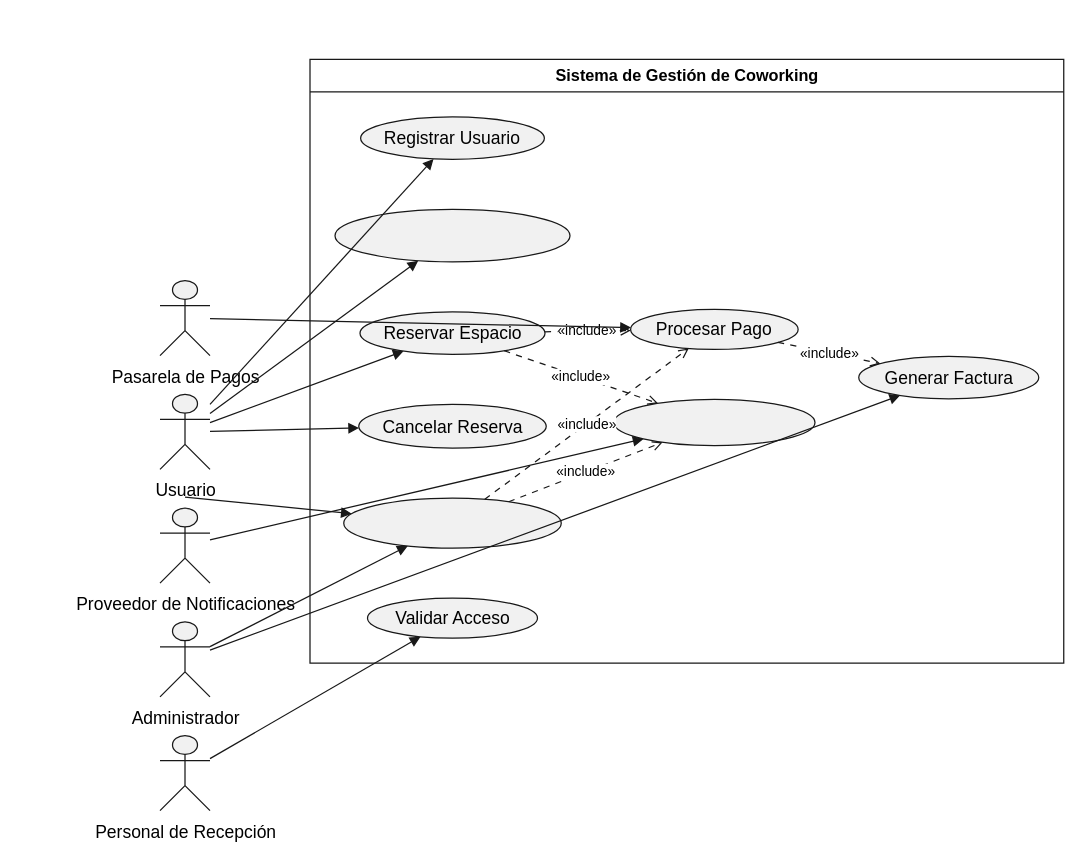
The diagram is 1085 pixels wide and 864 high, and some of its shapes have lost their labels. Each missing label, with the centre of its shape:
Consultar Disponibilidad: (x=452, y=235)
Enviar Notificación: (x=713, y=422)
Gestionar Membresía: (x=451, y=522)
